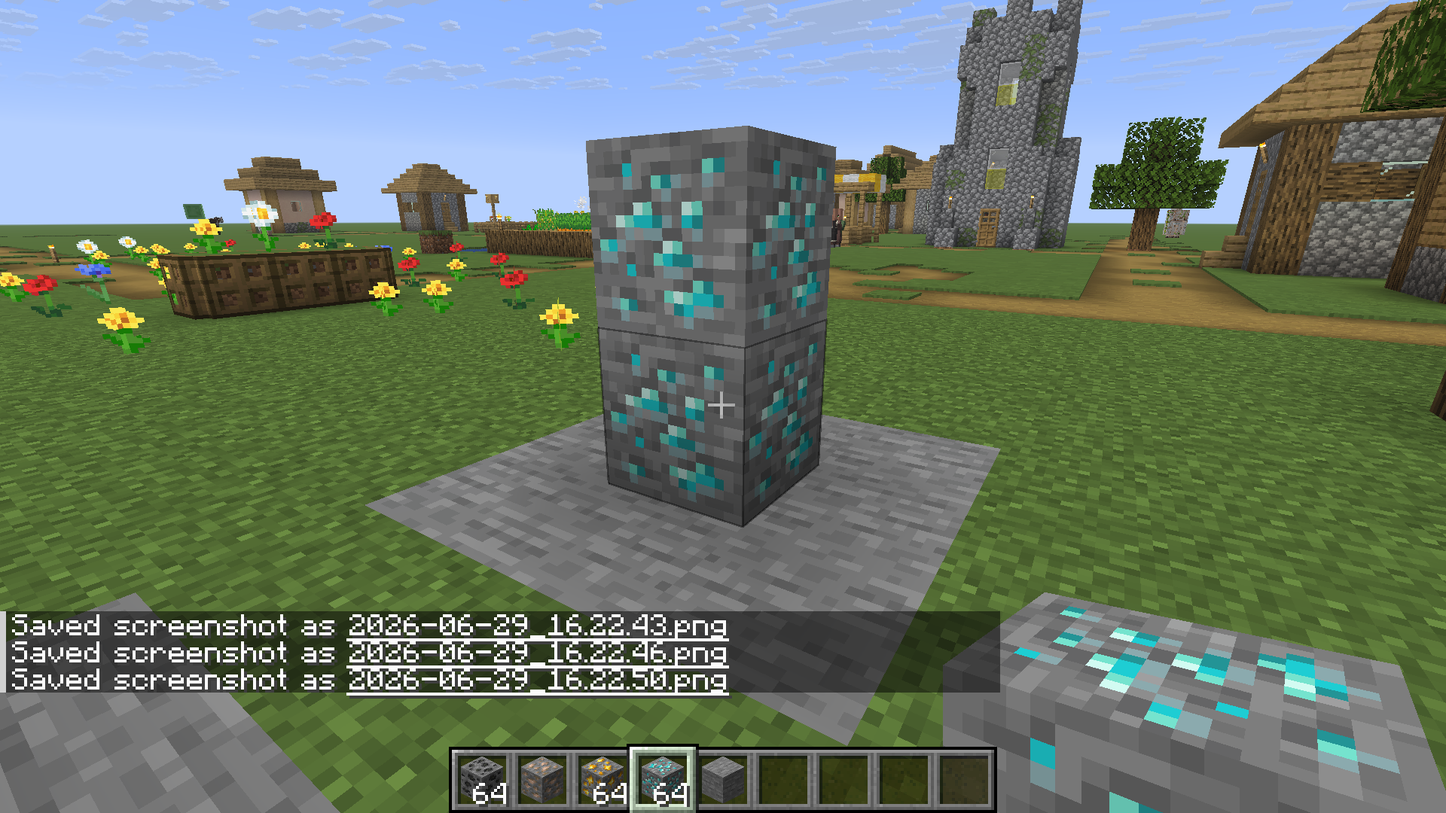diamond ore: (599, 324, 840, 540), (587, 139, 835, 343)
